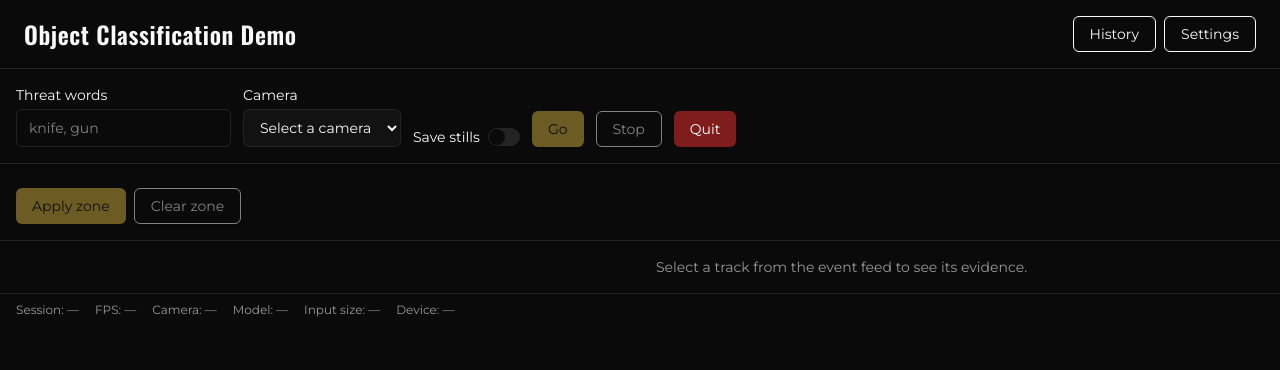
test_go_race_with_early_session_ended › ends inactive when session.ended for the new id arrives before the POST /session response
The width and height of the screenshot is (1280, 370).
In the field with placeholder "knife, gun": (124, 128) 16,109 -> 231,147, type "knife"
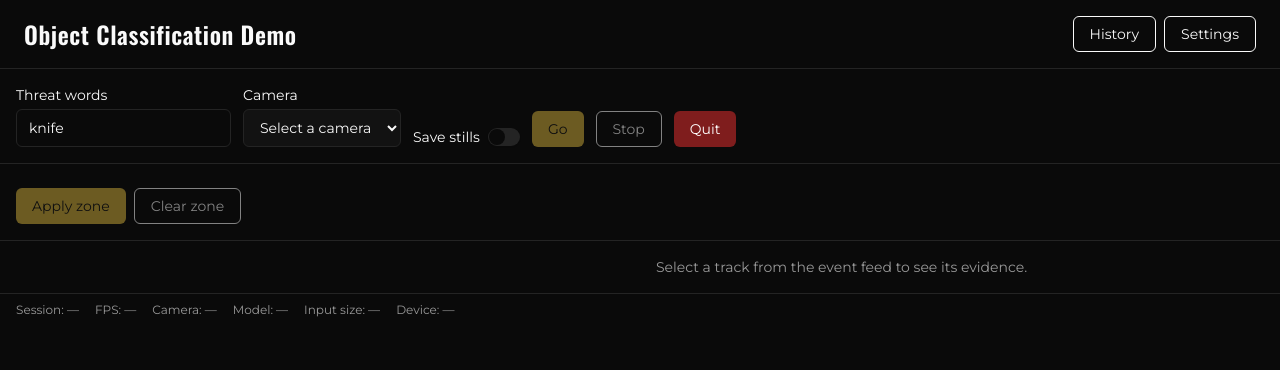
Select "Cam 1" in the dropdown labelled "Camera": (322, 128) 243,109 -> 401,147
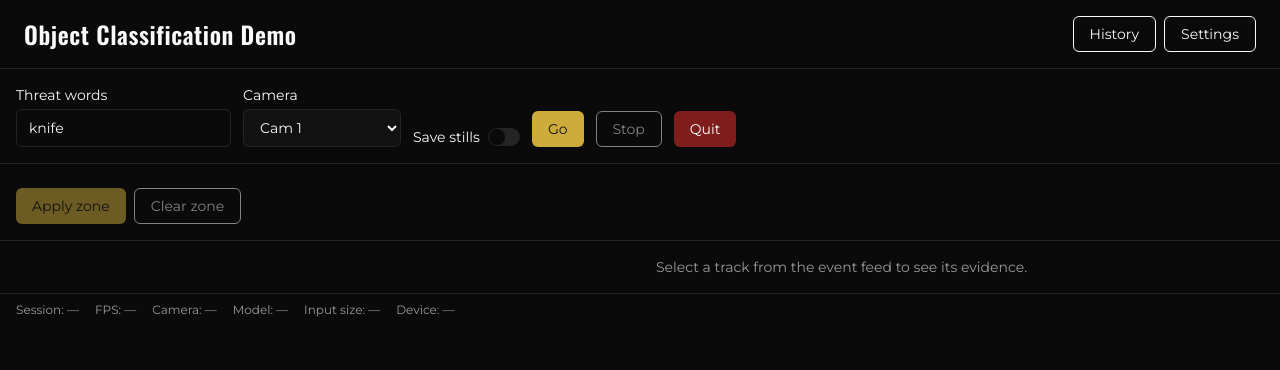
Click the button "Go": (558, 129) 532,111 -> 584,147
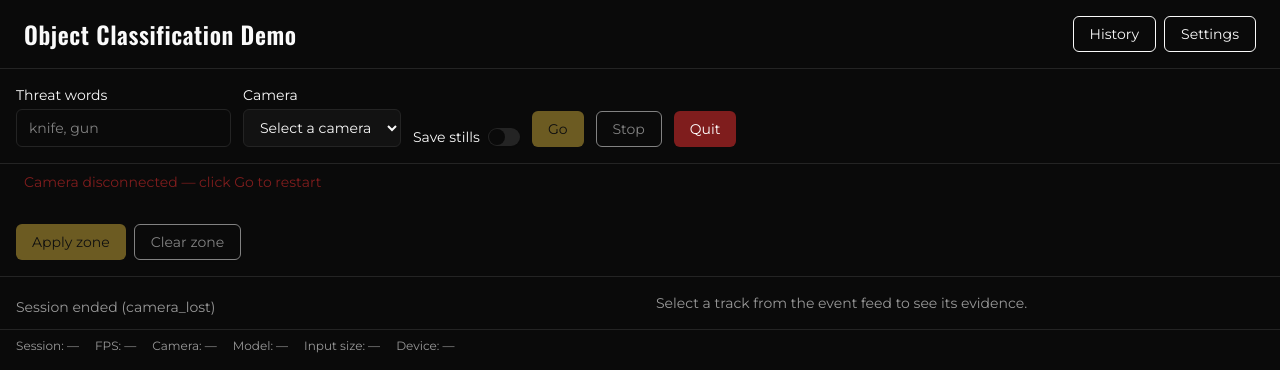
Now the text "Camera disconnected — click Go to restart" is shown, box 24,173 -> 322,191
